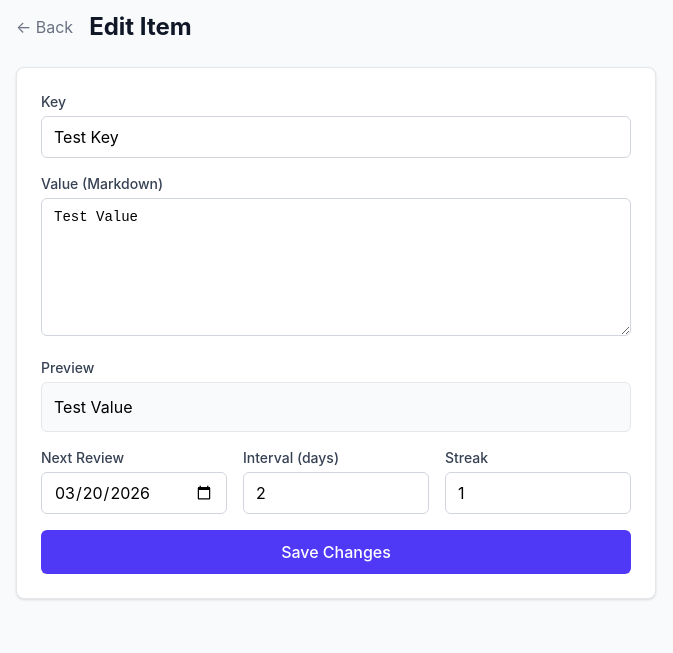
Scenario: EditItemForm › shows 'key already exists' error on 409 response
Click the button "Save Changes" at (336, 552), box x1=41 y1=530 x2=631 y2=574
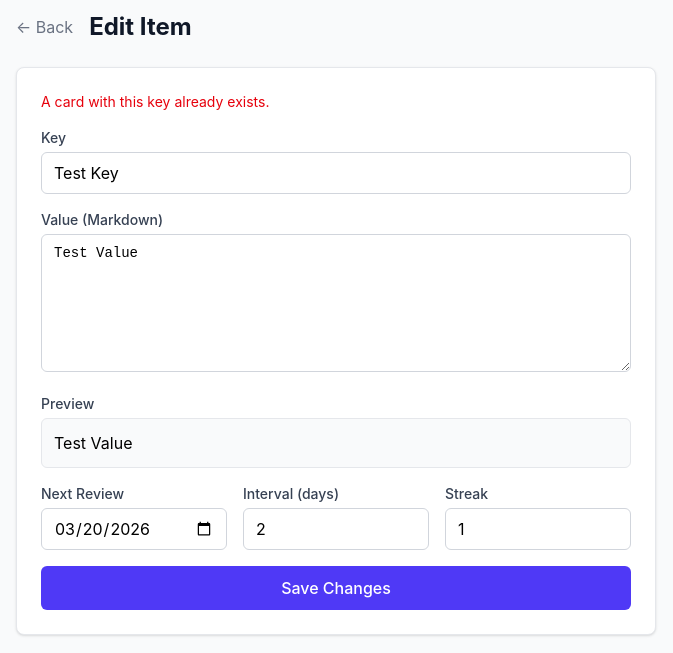
expect the message reads "A card with this key already exists.": met, box x1=41 y1=93 x2=270 y2=110
